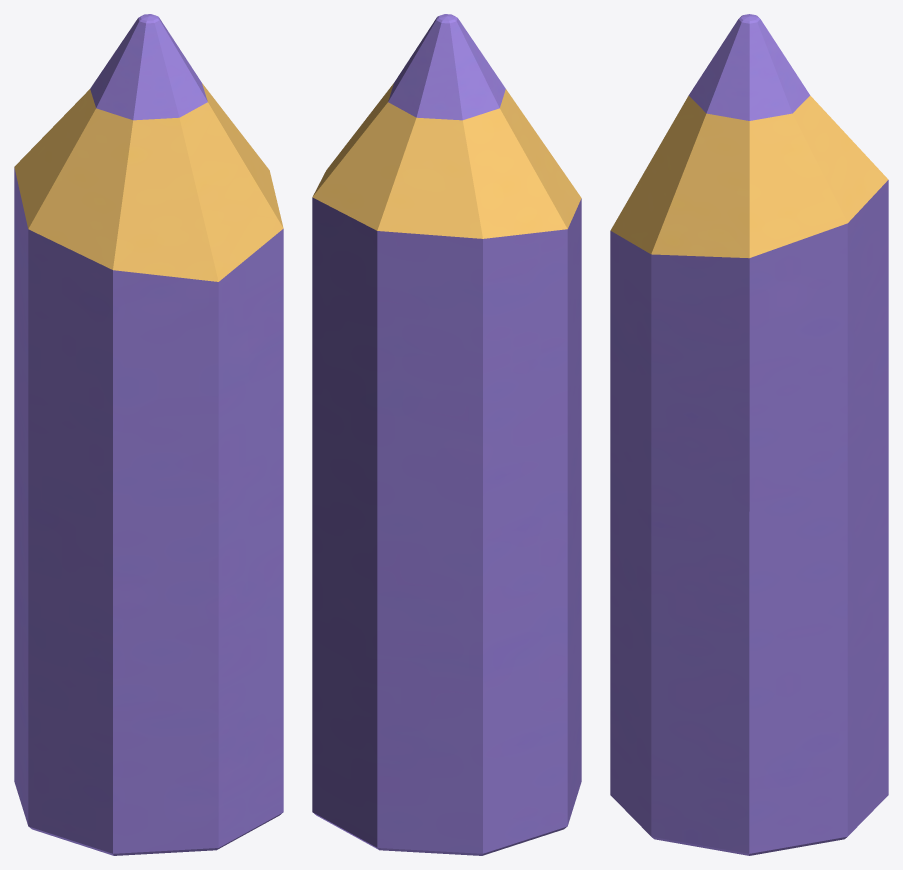
Rendered from PenSmall_4.fbx.
The picture shows the model from 3 angles, left to right: view 1: azimuth 30°, elevation 25°; view 2: azimuth 150°, elevation 25°; view 3: azimuth 270°, elevation 25°; orthographic projection.
Visible parts, largest first — view 1: Cylinder.008; view 2: Cylinder.008; view 3: Cylinder.008.
Boxes of the visible parts, <box> form: Cylinder.008: <box>14,14,283,855</box>; Cylinder.008: <box>312,14,581,855</box>; Cylinder.008: <box>610,14,888,855</box>.
Size of the model in its own units: 129 by 400 by 129.
